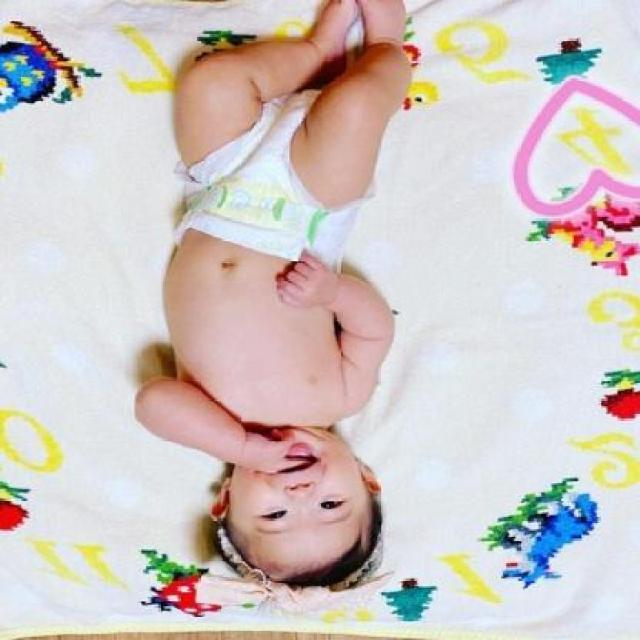baby: (133, 2, 410, 616)
